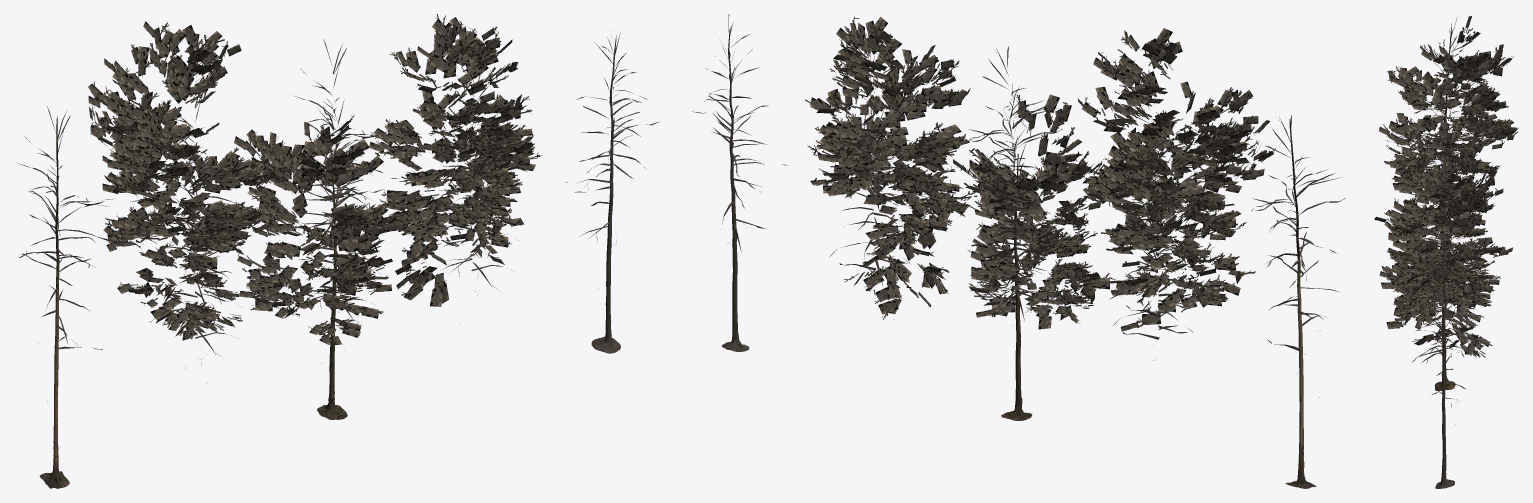
Rendered from pine_tree_01.glb.
3 views of the same model, side by side, from view 1: azimuth 30°, elevation 25°; view 2: azimuth 150°, elevation 25°; view 3: azimuth 270°, elevation 25° (orthographic). The views are drawn at different scales.
Visible parts, largest first — view 1: object 4, pine_tree_01_a_LOD0, pine_tree_01_c_LOD0, object 5, pine_tree_01_b_LOD0; view 2: object 4, pine_tree_01_c_LOD0, pine_tree_01_a_LOD0, object 5, pine_tree_01_b_LOD0; view 3: object 4, pine_tree_01_c_LOD0, object 5, pine_tree_01_b_LOD0, pine_tree_01_a_LOD0.
Boxes of the visible parts, <box> form: object 4: <box>39,14,541,488</box>; pine_tree_01_a_LOD0: <box>18,100,383,363</box>; pine_tree_01_c_LOD0: <box>294,32,659,297</box>; object 5: <box>317,35,620,419</box>; pine_tree_01_b_LOD0: <box>155,67,502,368</box>; object 4: <box>805,16,1316,488</box>; pine_tree_01_c_LOD0: <box>691,14,1062,304</box>; pine_tree_01_a_LOD0: <box>977,83,1345,397</box>; object 5: <box>721,26,1032,420</box>; pine_tree_01_b_LOD0: <box>848,53,1197,362</box>; object 4: <box>1374,16,1518,357</box>; pine_tree_01_c_LOD0: <box>1411,115,1482,424</box>; object 5: <box>1434,206,1455,488</box>; pine_tree_01_b_LOD0: <box>1411,69,1486,357</box>; pine_tree_01_a_LOD0: <box>1414,17,1482,307</box>.
Bounding box in the file's own units: 32.25 × 20.45 × 8.6.
Materials: 6 (6 with a texture image).
